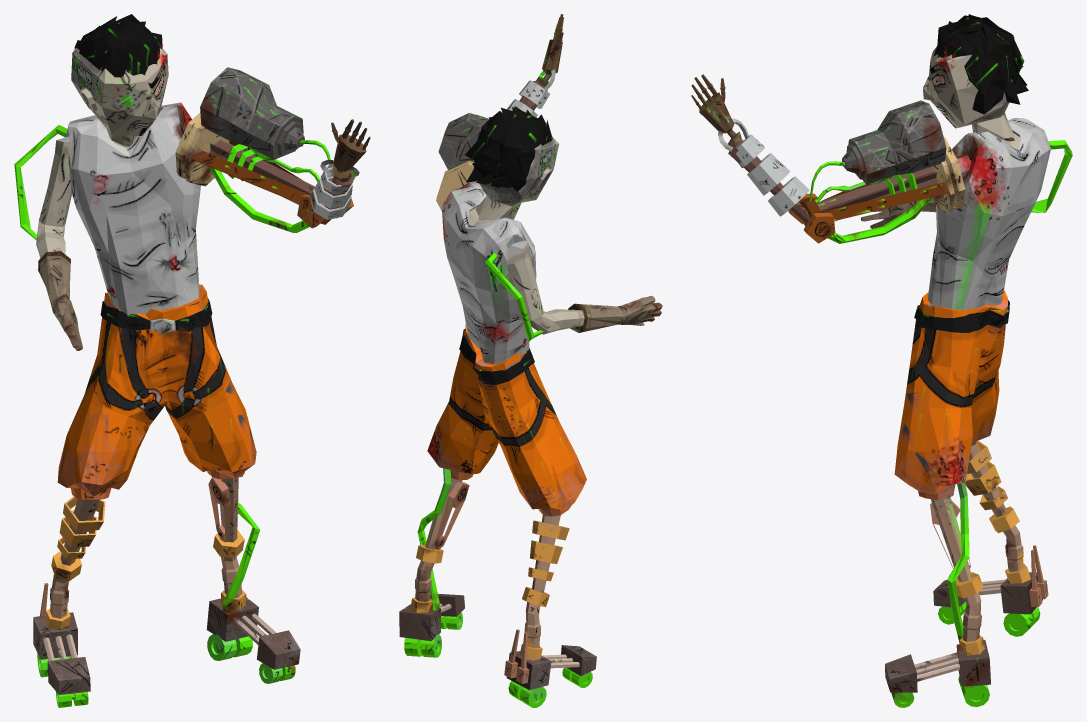
The model's file is CyborgFINALAnimation_000066.obj.
3 views of the same model, side by side, from view 1: azimuth 30°, elevation 25°; view 2: azimuth 150°, elevation 25°; view 3: azimuth 270°, elevation 25° (orthographic). The views are drawn at different scales.
Parts seen in each view (by area): view 1: CyborgMesh_Cube.002; view 2: CyborgMesh_Cube.002; view 3: CyborgMesh_Cube.002.
Part boxes in pixels (left/top/right/bottom): CyborgMesh_Cube.002: left=14, top=14, right=370, bottom=707; CyborgMesh_Cube.002: left=399, top=14, right=662, bottom=707; CyborgMesh_Cube.002: left=691, top=14, right=1072, bottom=707.
Size of the model in its own units: 3.88 by 9.56 by 5.22.
